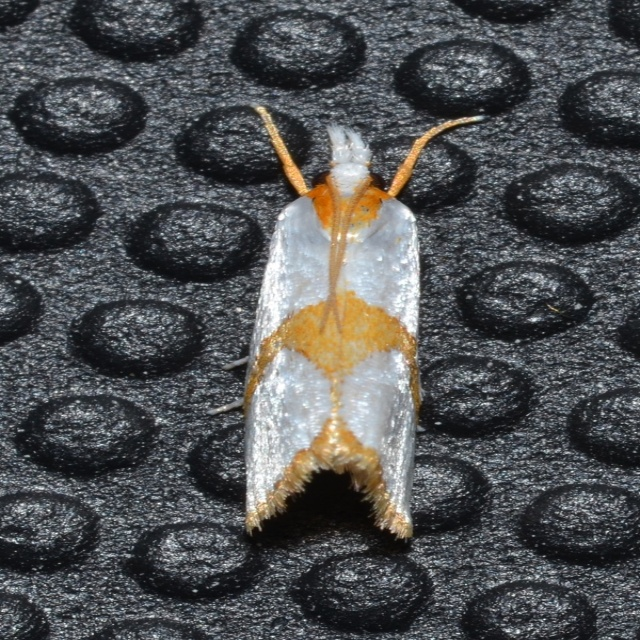Moths and butterflies: (245, 105, 483, 545)
